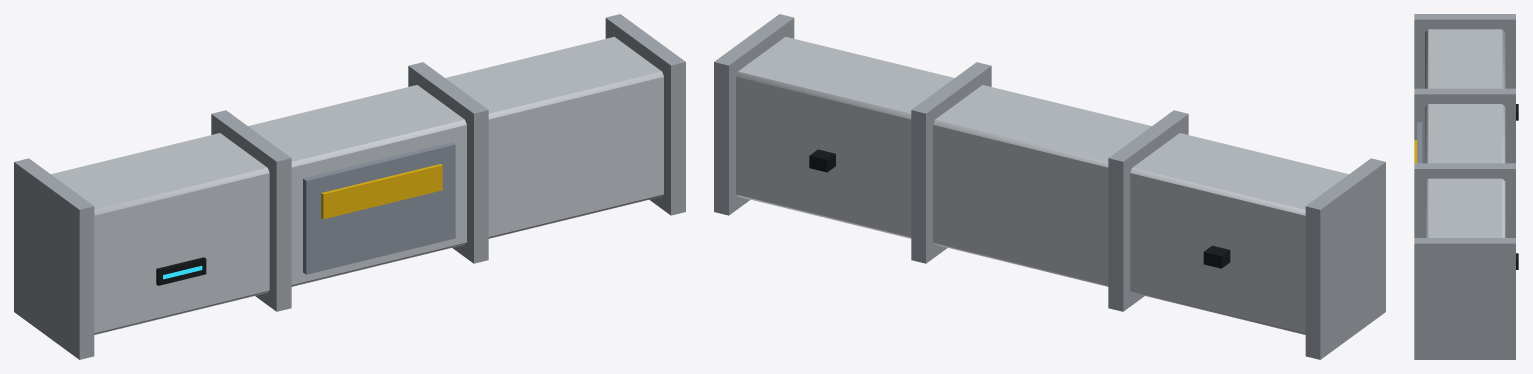
Rendered from duct_rectangular_duct_run.glb.
The picture shows the model from 3 angles, left to right: view 1: azimuth 30°, elevation 25°; view 2: azimuth 150°, elevation 25°; view 3: azimuth 270°, elevation 25°; orthographic projection. The views are drawn at different scales.
Visible parts, largest first — view 1: duct_rectangular_duct_run; view 2: duct_rectangular_duct_run; view 3: duct_rectangular_duct_run.
Part boxes in pixels (x1,y1,x2,y2): duct_rectangular_duct_run: (14,14,685,359); duct_rectangular_duct_run: (714,14,1385,359); duct_rectangular_duct_run: (1414,14,1518,359).
Bounding box in the file's own units: 2.03 × 0.48 × 0.391.
